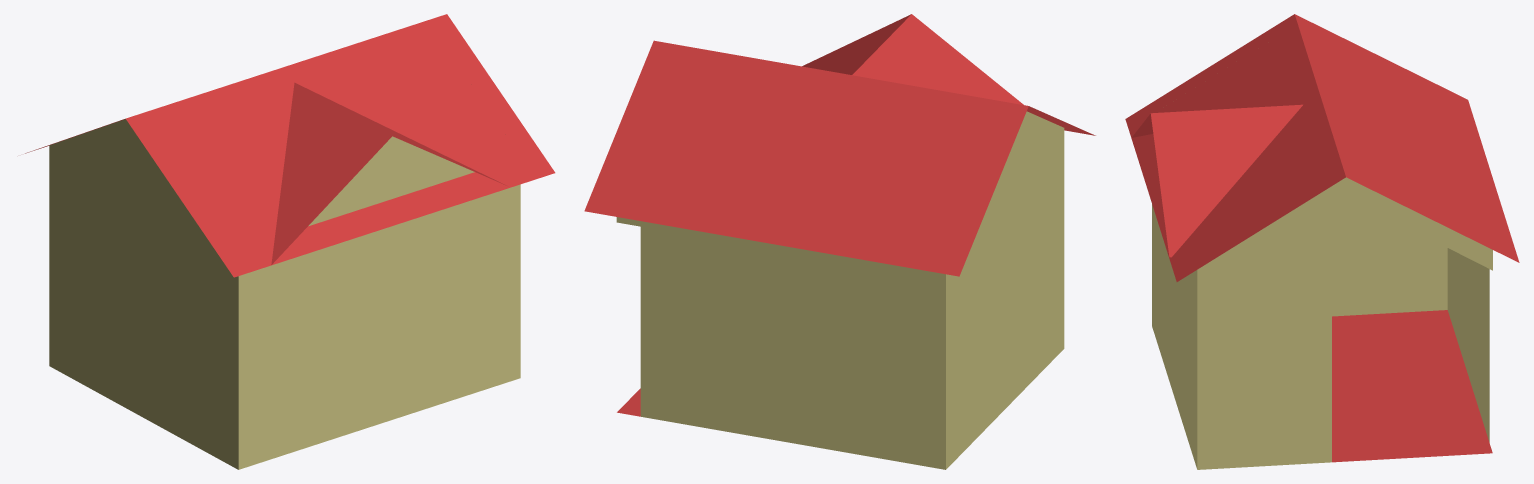
The picture shows the model from 3 angles, left to right: view 1: azimuth 30°, elevation 25°; view 2: azimuth 150°, elevation 25°; view 3: azimuth 270°, elevation 25°; orthographic projection. The views are drawn at different scales.
Size of the model in its own units: 13.59 by 12.4 by 10.22.
